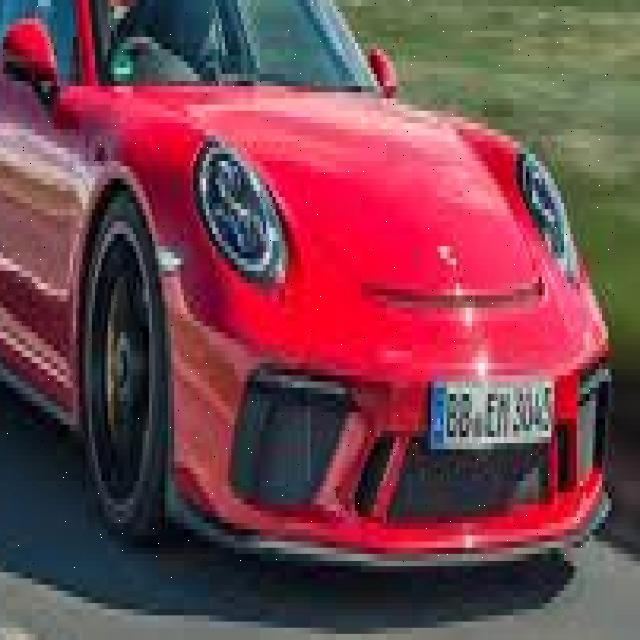car: (0, 0, 614, 578)
